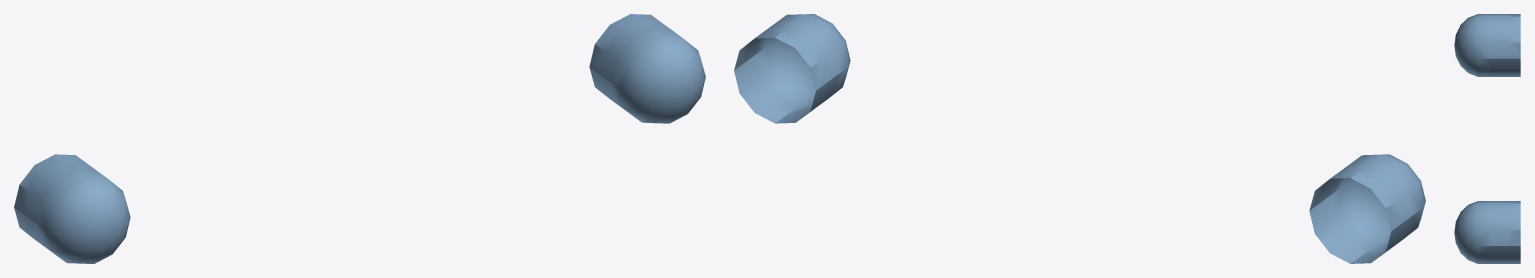
File: Entrance_Light.fbx
The picture shows the model from 3 angles, left to right: view 1: azimuth 30°, elevation 25°; view 2: azimuth 150°, elevation 25°; view 3: azimuth 270°, elevation 25°; orthographic projection. The views are drawn at different scales.
Visible parts, largest first — view 1: Plane.013; view 2: Plane.013; view 3: Plane.013.
Boxes of the visible parts, x1,y1,x2,y2 form: Plane.013: [14, 14, 705, 263]; Plane.013: [734, 14, 1425, 263]; Plane.013: [1454, 14, 1520, 263].
Bounding box in the file's own units: 178 × 22.2 × 23.35.
